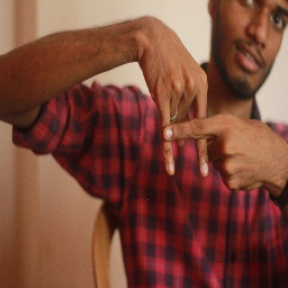H: (136, 79, 246, 184)
